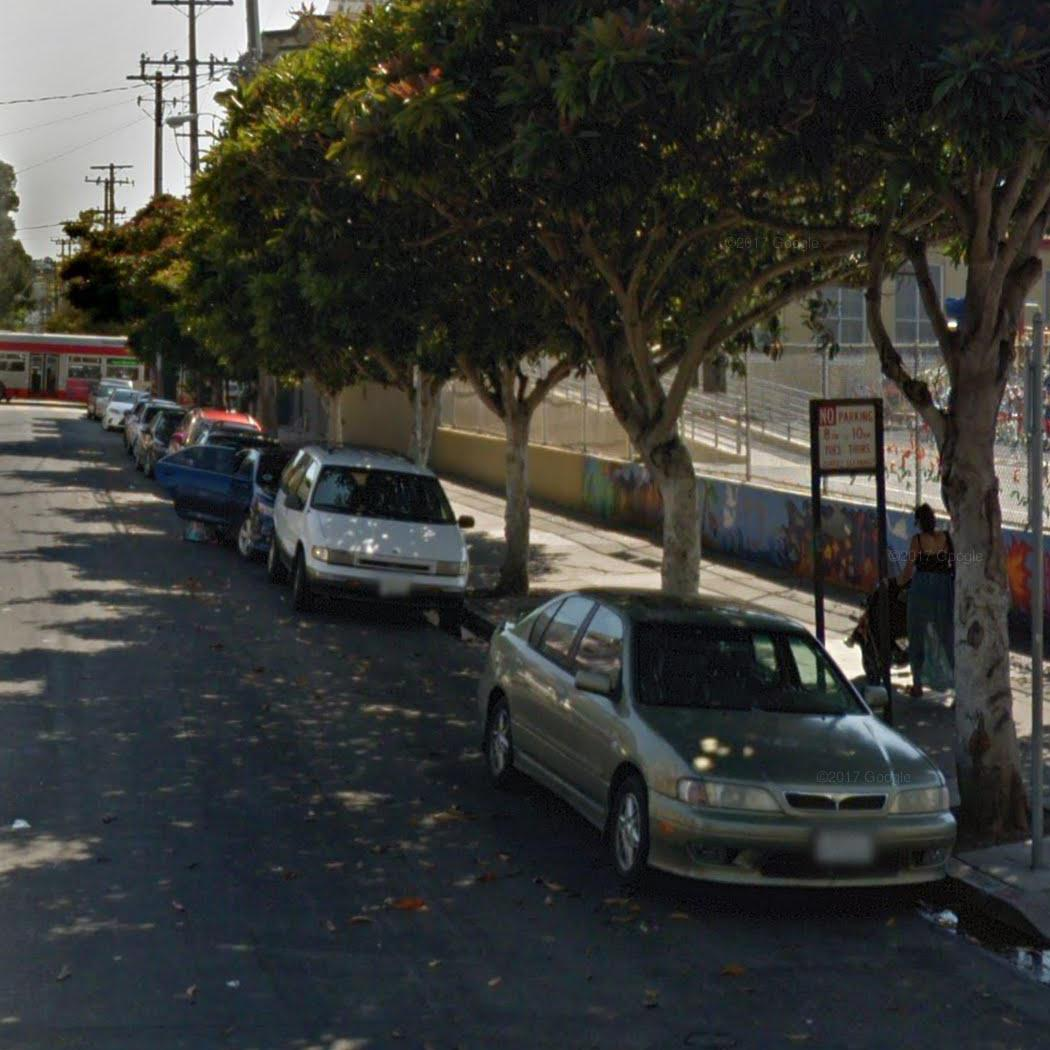No Parking: (811, 398, 882, 473)
